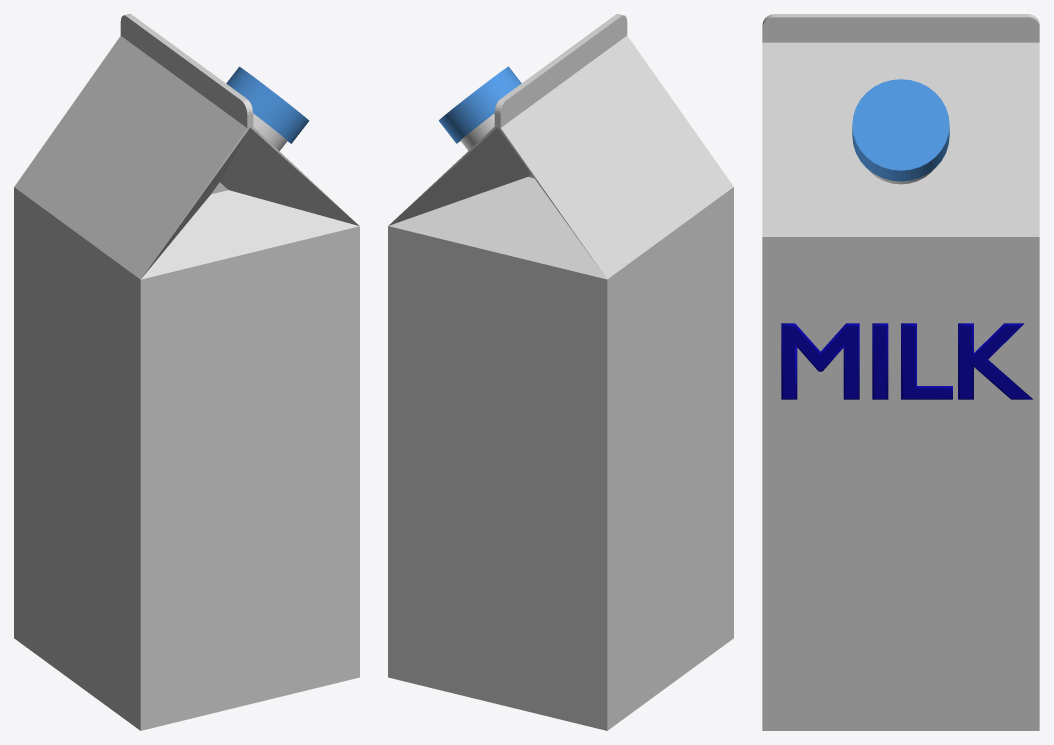
The model's file is Lait.fbx.
3 views of the same model, side by side, from view 1: azimuth 30°, elevation 25°; view 2: azimuth 150°, elevation 25°; view 3: azimuth 270°, elevation 25° (orthographic). The views are drawn at different scales.
Visible parts, largest first — view 1: Cube, Cylinder.001; view 2: Cube, Cylinder.001; view 3: Cube, Text, Cylinder.001.
Part boxes in pixels (left/top/right/bottom): Cube: left=14, top=14, right=359, bottom=730; Cylinder.001: left=226, top=66, right=308, bottom=143; Cube: left=388, top=14, right=733, bottom=730; Cylinder.001: left=438, top=66, right=521, bottom=143; Cube: left=762, top=14, right=1039, bottom=730; Text: left=781, top=323, right=1032, bottom=399; Cylinder.001: left=852, top=79, right=949, bottom=181.
Bounding box in the file's own units: 205 × 523 × 200.
